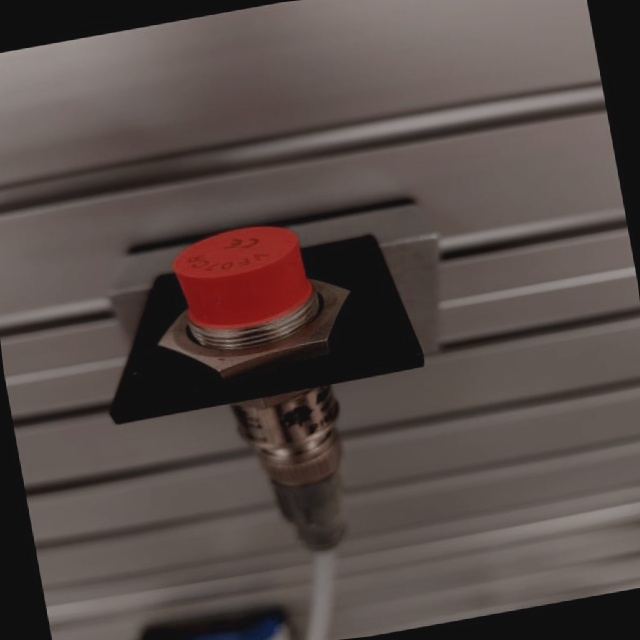inductive sensor: (69, 180, 507, 592)
